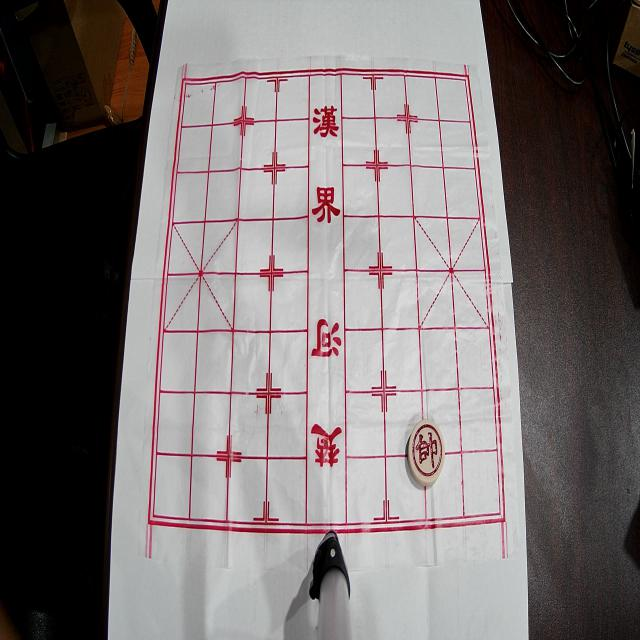red-general: (408, 419, 445, 487)
